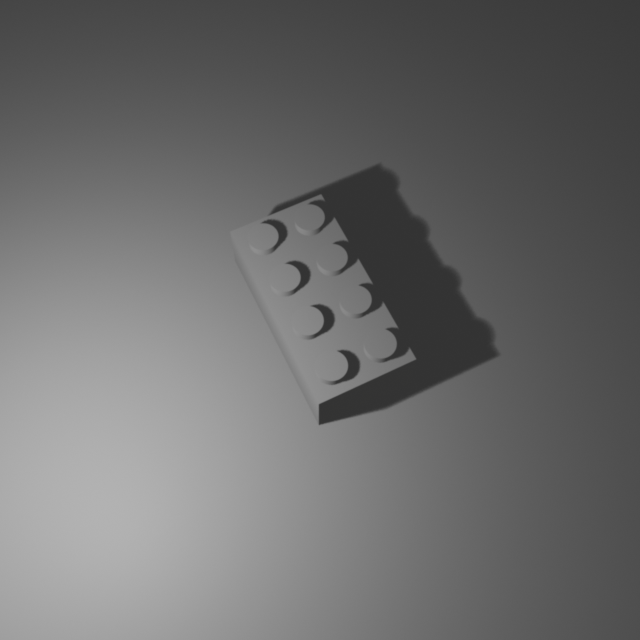lego_2x4: (229, 189, 417, 425)
